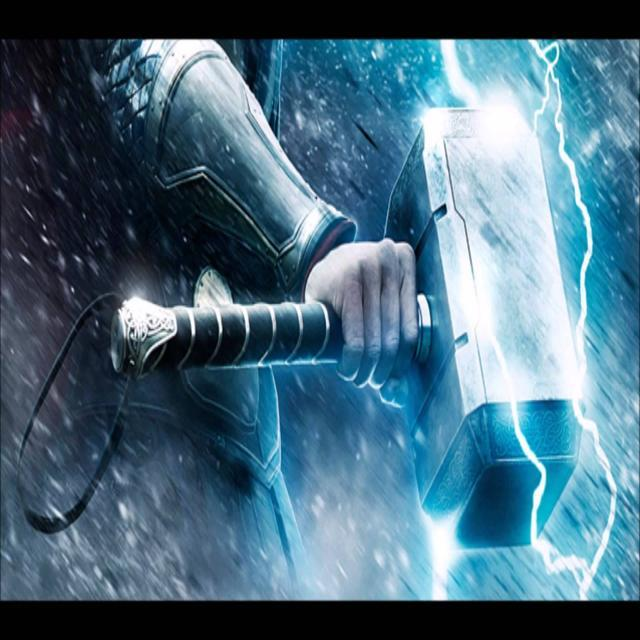hammer: (101, 91, 590, 559)
